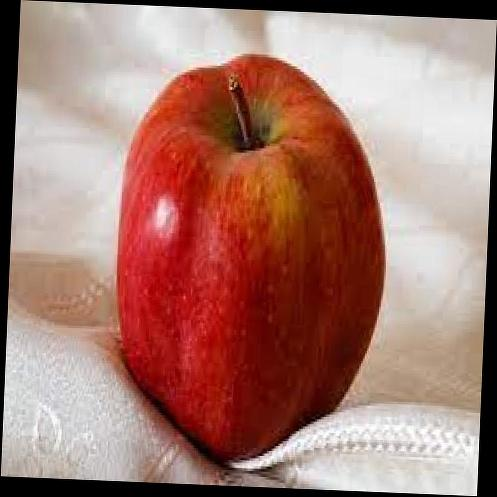red apple: (108, 48, 399, 463)
